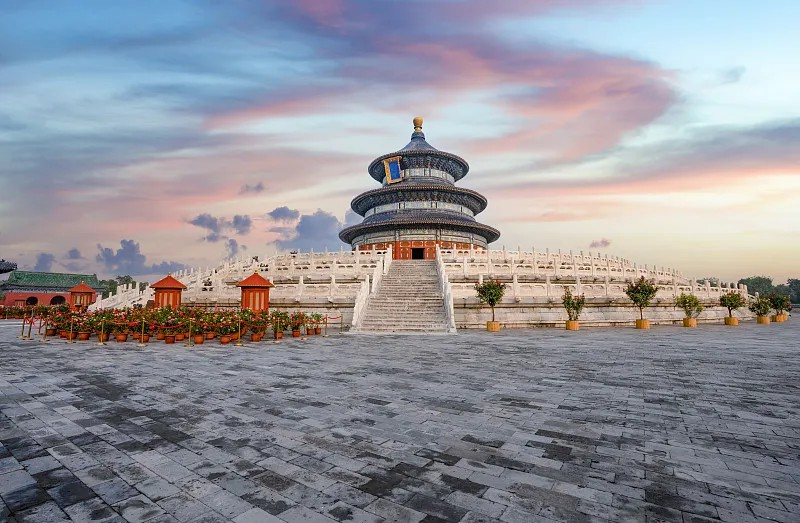Heaven: (337, 117, 502, 261)
